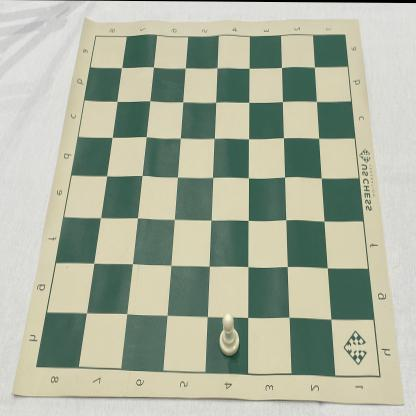white-pawn: (219, 311, 240, 357)
